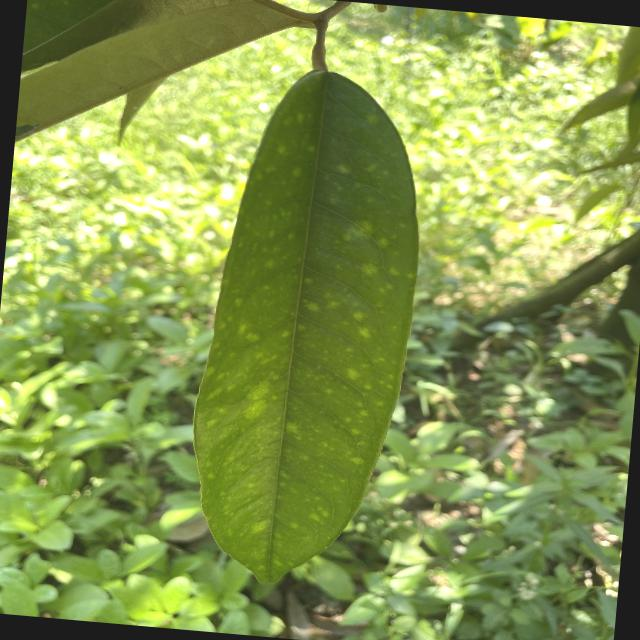Leaf Spot: (170, 53, 441, 620)
